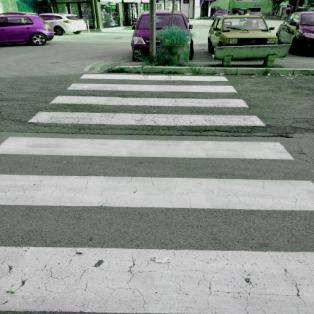Paso de Cebra: (0, 135, 314, 216), (44, 81, 252, 109)
